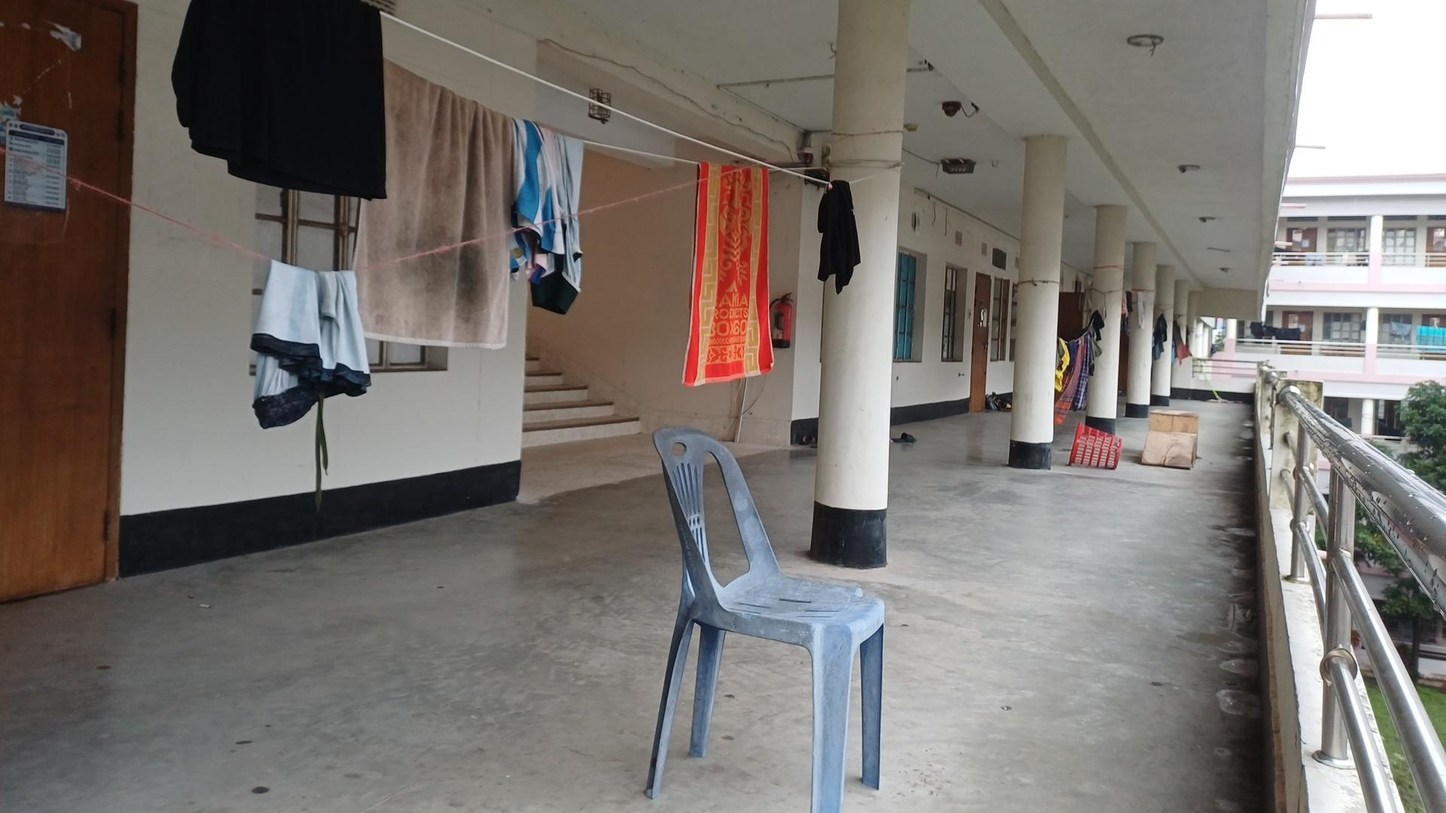Basket: (1072, 411, 1130, 475)
Chair: (606, 396, 899, 802)
Stool: (1150, 401, 1221, 488)
Towel: (370, 53, 526, 354), (687, 144, 810, 385)
